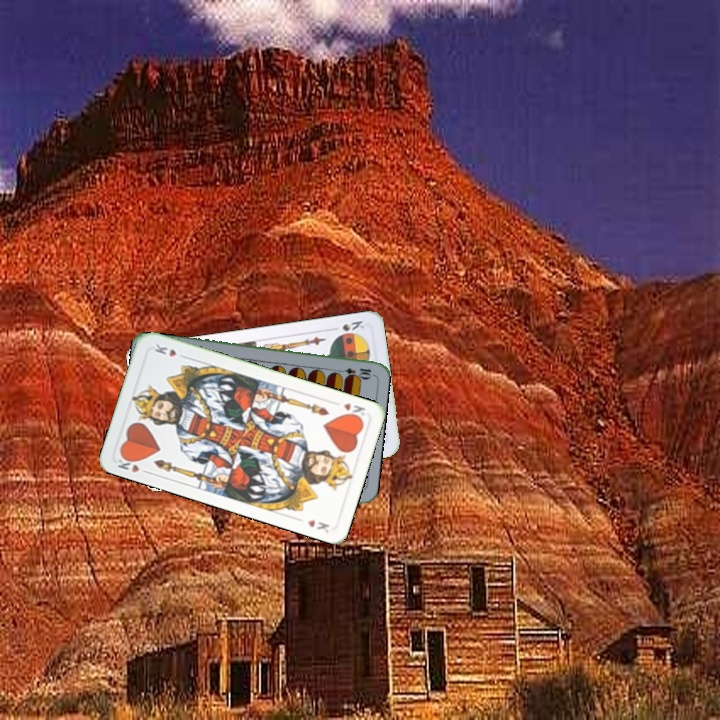E10: (333, 364, 374, 379)
HK: (113, 451, 152, 476), (340, 399, 368, 422)
SK: (334, 316, 367, 338)
